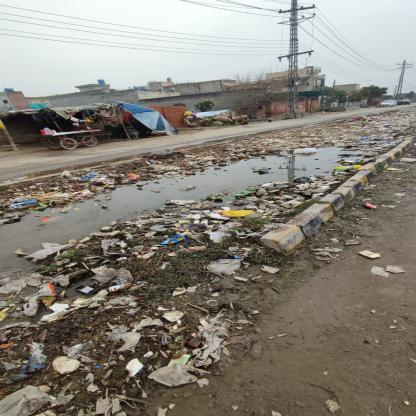Garbage: (4, 170, 346, 416)
